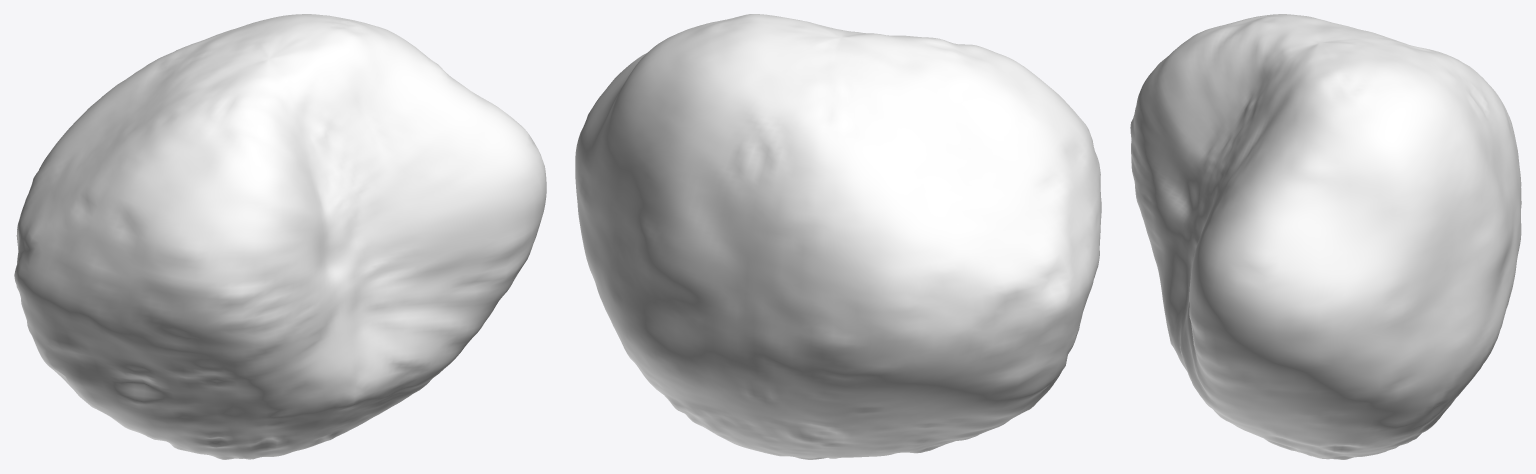
Rendered from deimos.gltf.
The picture shows the model from 3 angles, left to right: view 1: azimuth 30°, elevation 25°; view 2: azimuth 150°, elevation 25°; view 3: azimuth 270°, elevation 25°; orthographic projection. The views are drawn at different scales.
Visible parts, largest first — view 1: deimos; view 2: deimos; view 3: deimos.
Boxes of the visible parts, x1=… form: deimos: x1=14, y1=14, x2=546, y2=459; deimos: x1=575, y1=14, x2=1101, y2=459; deimos: x1=1130, y1=14, x2=1521, y2=459.
Bounding box in the file's own units: 15.01 × 11.87 × 10.51.
Materials: 1 (1 with a texture image).
